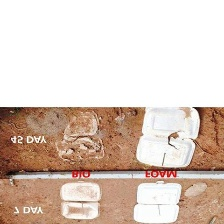foam_box: (134, 106, 202, 168), (51, 109, 107, 165), (131, 178, 184, 224), (57, 178, 102, 221)
